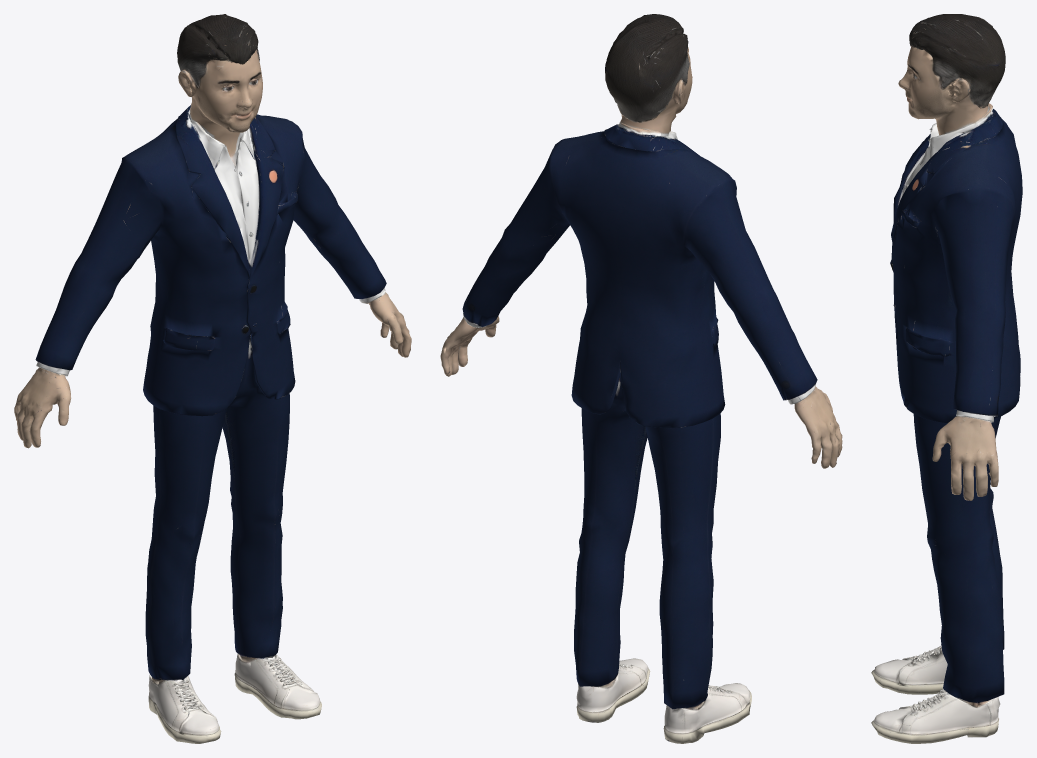
Rendered from varjo_meshy.glb.
3 renders of one model, left to right at view 1: azimuth 30°, elevation 25°; view 2: azimuth 150°, elevation 25°; view 3: azimuth 270°, elevation 25°, orthographic.
Size of the model in its own units: 1.1 by 1.87 by 0.3707.
1 material, 1 textured.
